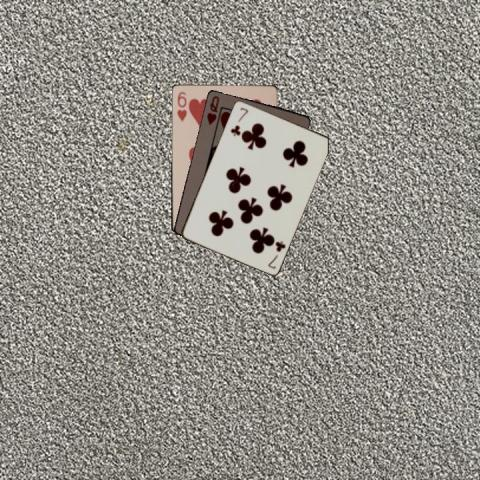6h: (174, 88, 188, 122)
7c: (228, 104, 250, 137), (264, 237, 286, 270)
Qh: (203, 93, 221, 126)
